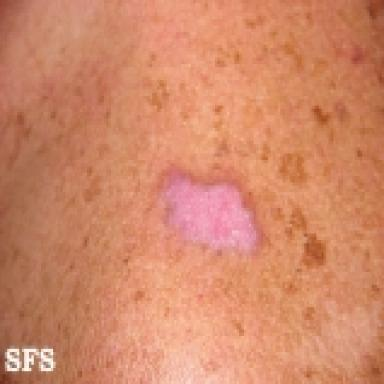Lupus-Erythematosus-Chronicus-Discoides: (158, 168, 260, 253)
